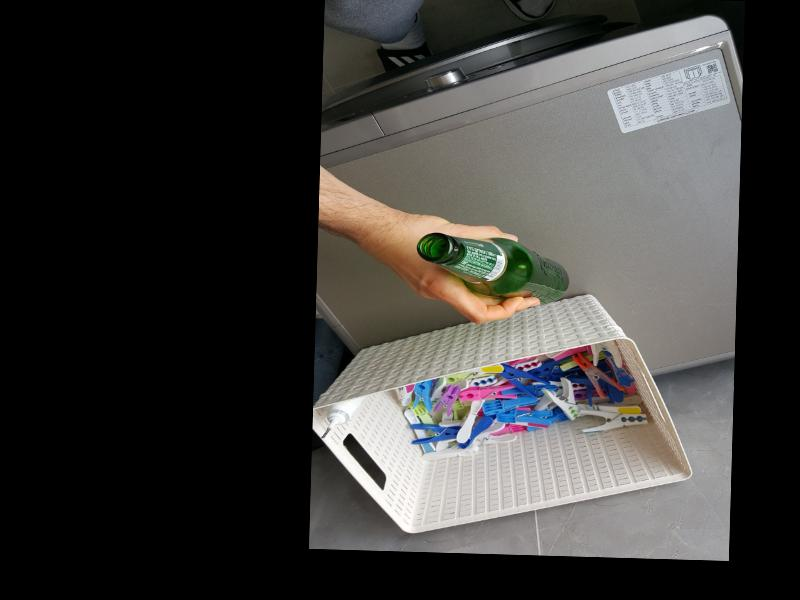Beer: (415, 231, 569, 307)
